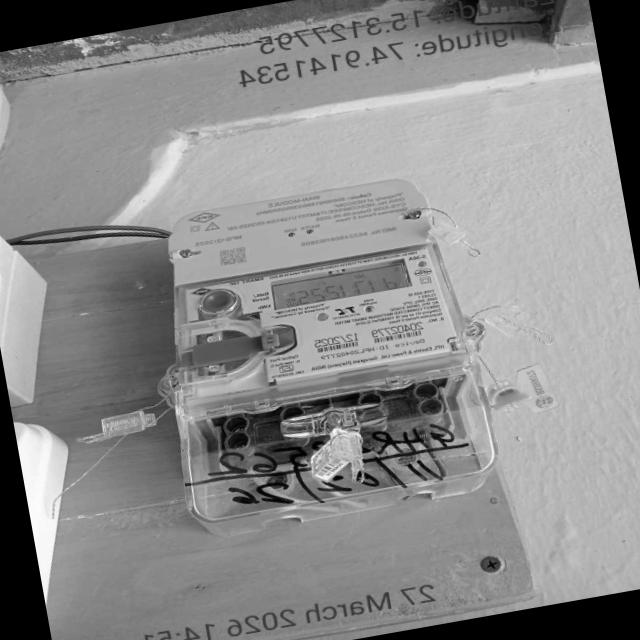meter: (164, 167, 465, 404)
